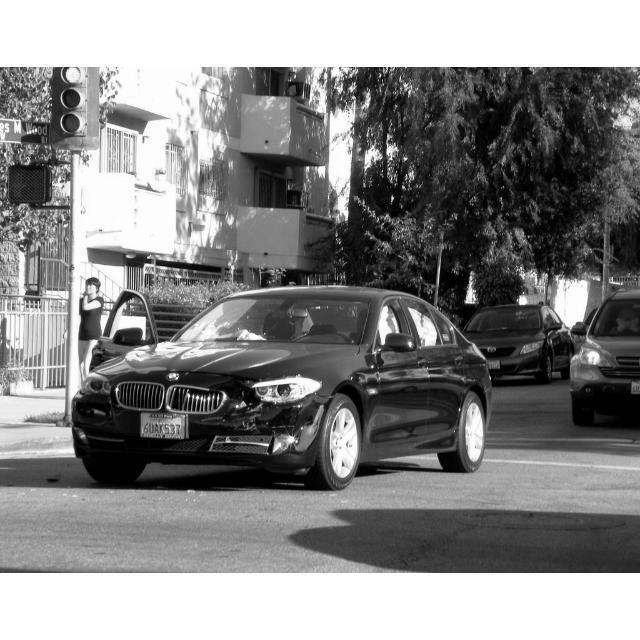front-bumper-dent: (201, 402, 294, 455)
